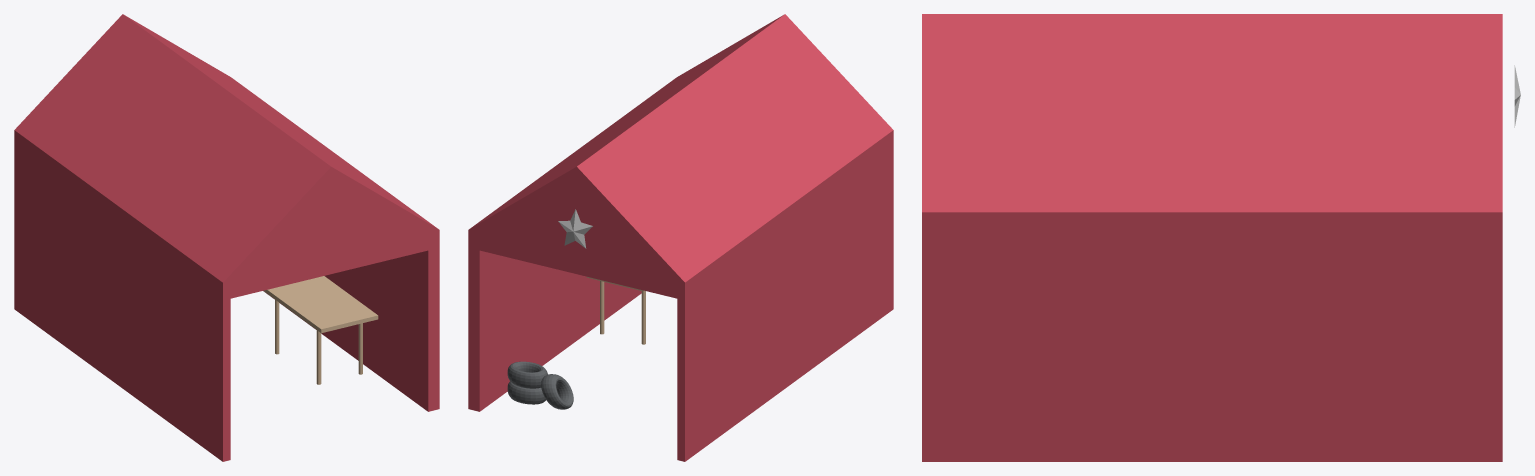
File: GarageBarn.glb
The picture shows the model from 3 angles, left to right: view 1: azimuth 30°, elevation 25°; view 2: azimuth 150°, elevation 25°; view 3: azimuth 270°, elevation 25°; orthographic projection. The views are drawn at different scales.
Visible parts, largest first — view 1: Mesh_Mesh_head_geo.001_lambert2SG.001; view 2: Mesh_Mesh_head_geo.001_lambert2SG.001; view 3: Mesh_Mesh_head_geo.001_lambert2SG.001.
Boxes of the visible parts, x1,y1,x2,y2 form: Mesh_Mesh_head_geo.001_lambert2SG.001: [14, 14, 439, 461]; Mesh_Mesh_head_geo.001_lambert2SG.001: [468, 14, 893, 461]; Mesh_Mesh_head_geo.001_lambert2SG.001: [922, 14, 1520, 461].
Size of the model in its own units: 57 by 67.6 by 98.
